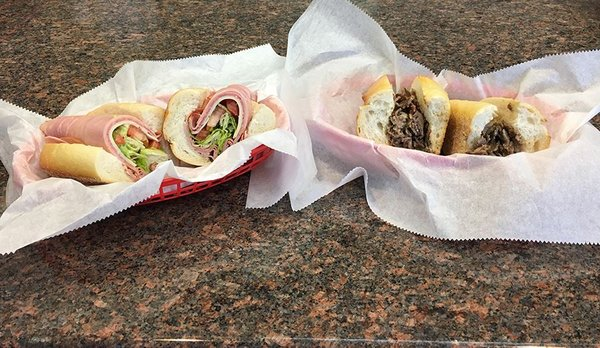burger: (38, 100, 170, 186)
